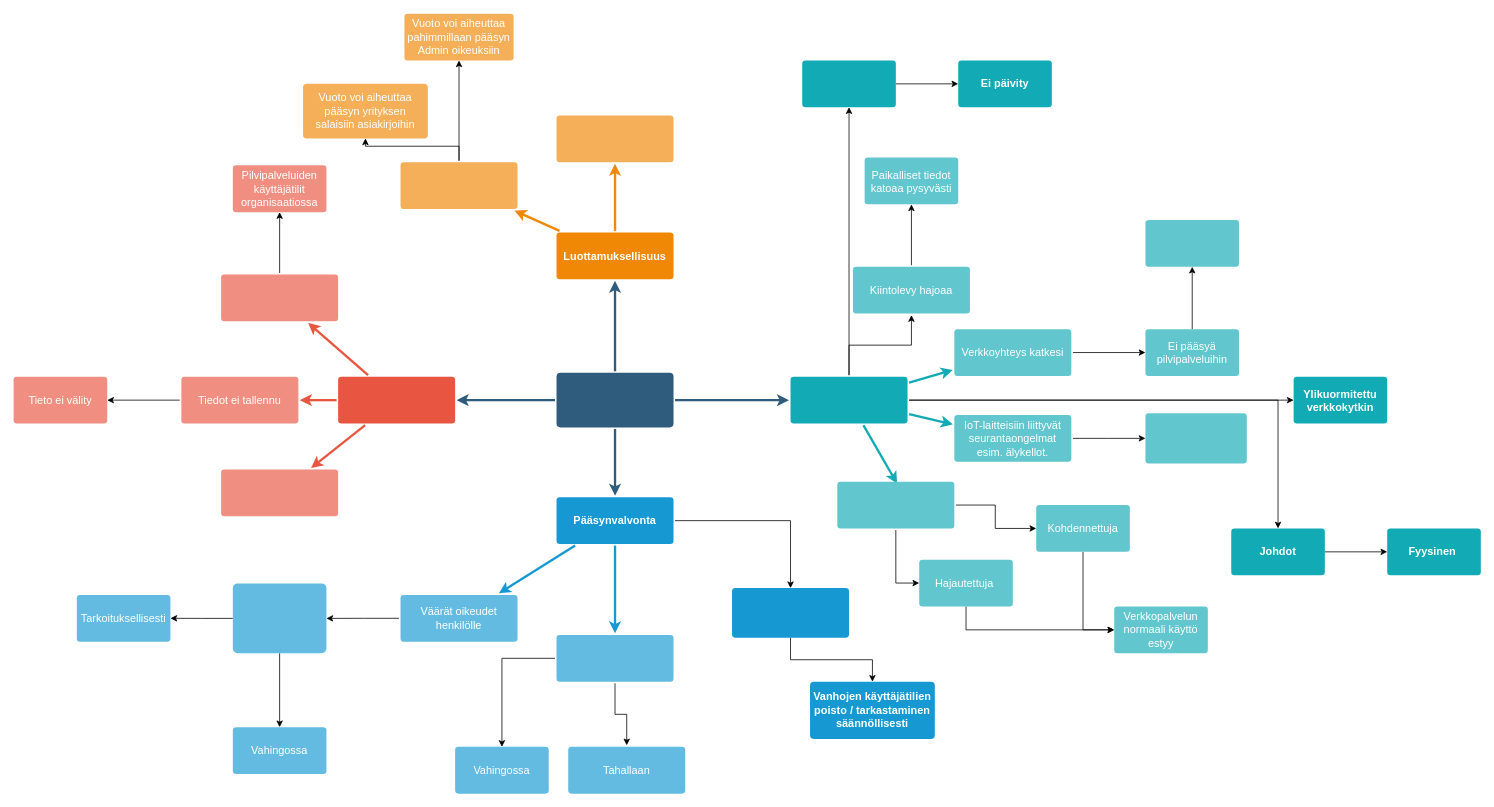
The diagram is 1494 pixels wide and 807 high, and some of its shapes have lost their labels. Each missing label, with the centre of its shape:
Eheys, paikkansa pitävyys: the point at 396,399
Henkilö saa ylemmät oikeudet, joilla voi vahingoittaa järjestelmää: the point at 279,618
Huijakset ja kalastelu: the point at 279,297
Joku poistaa tiedot: the point at 614,658
Kulunvalvonta: the point at 790,612
Käytettävyys: the point at 848,399
Palvelunesto- hyökkäykset: the point at 895,504
Sisäpiirihyökkäykset: the point at 614,138
Suojaamaton laite yhdistetään yrityksen verkkoon.: the point at 1195,438
Tietoturva: the point at 614,399
Työntekijältä vuotaa käyttäjätilin salasana: the point at 458,185
Vanha versio järjestelmästä tai laitteesta: the point at 848,83
Yritys ei ole toimintakykyinen: the point at 1192,243
